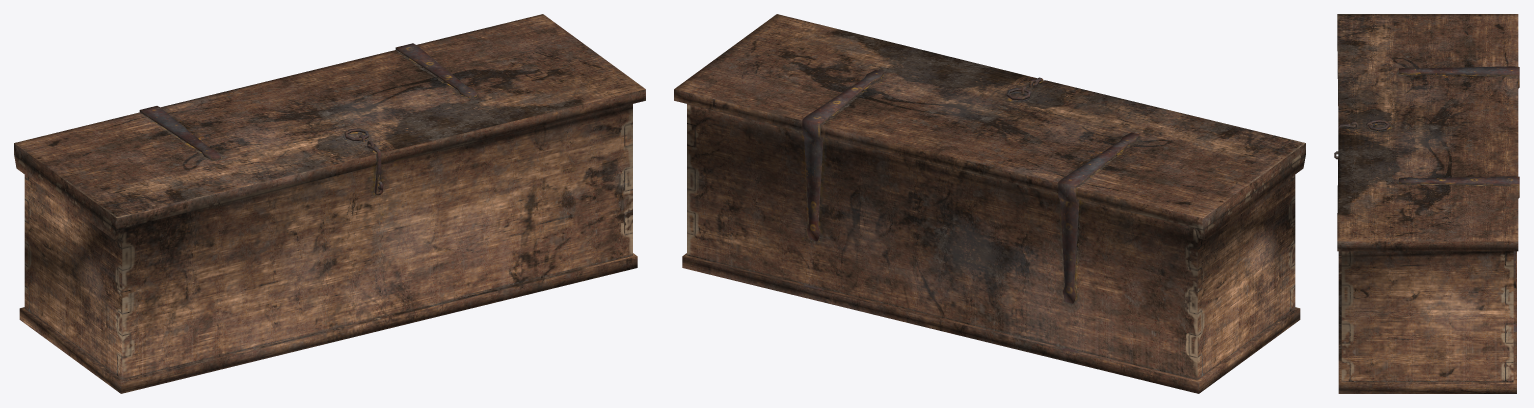
The model's file is Kiste 1.FBX.
The picture shows the model from 3 angles, left to right: view 1: azimuth 30°, elevation 25°; view 2: azimuth 150°, elevation 25°; view 3: azimuth 270°, elevation 25°; orthographic projection. The views are drawn at different scales.
Parts seen in each view (by area): view 1: Kasse; view 2: Kasse; view 3: Kasse.
Part boxes in pixels (bbox=[...]): Kasse: bbox=[14, 14, 645, 393]; Kasse: bbox=[674, 14, 1305, 393]; Kasse: bbox=[1334, 14, 1519, 393].
Bounding box in the file's own units: 122 × 40.23 × 42.03.
